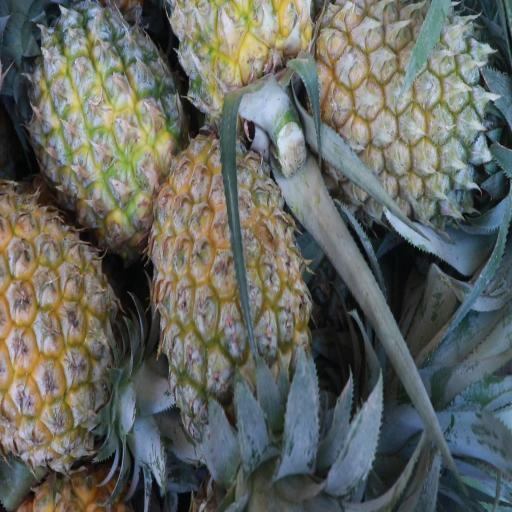------------------------------: (154, 126, 303, 424)
Pineapple - v8 v1: (0, 186, 127, 453), (30, 10, 177, 234), (175, 0, 310, 139)
